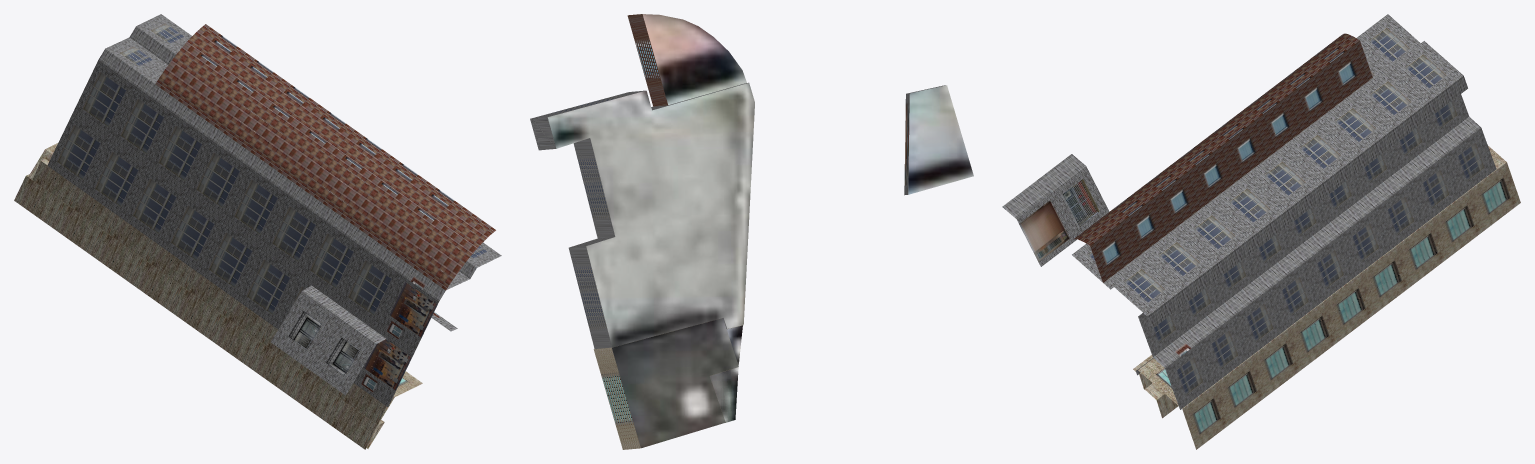
3 renders of one model, left to right at view 1: azimuth 30°, elevation 25°; view 2: azimuth 150°, elevation 25°; view 3: azimuth 270°, elevation 25°, orthographic. The views are drawn at different scales.
Size of the model in its own units: 25.42 by 29.35 by 37.98.
22 materials, 22 textured.
